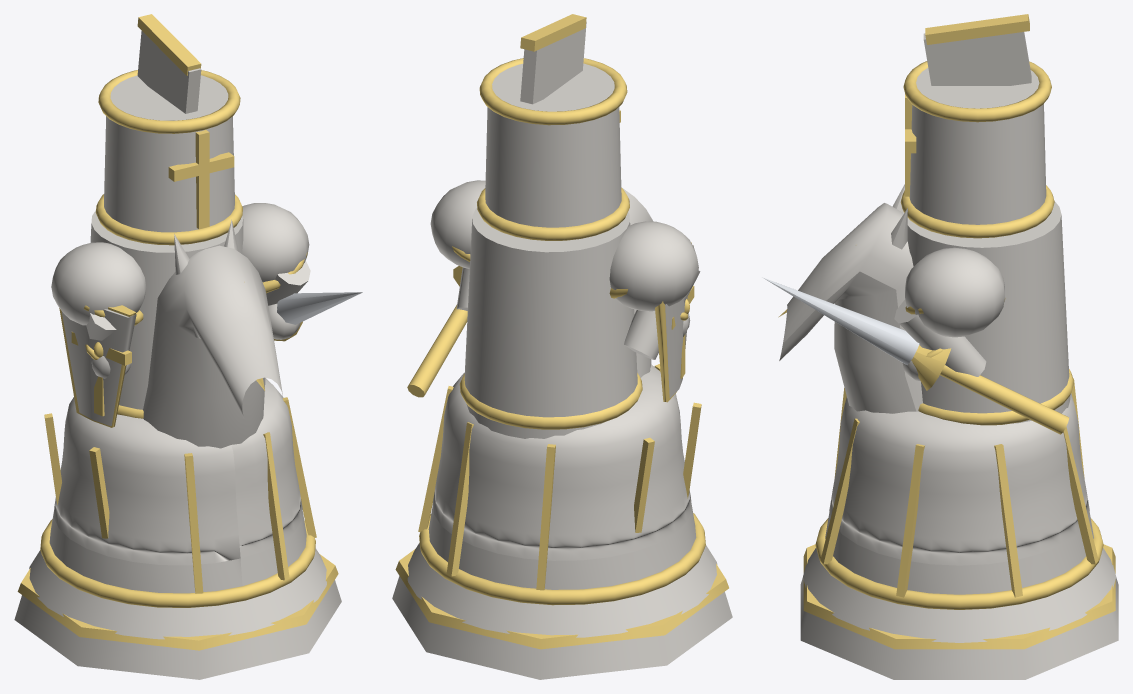
File: knight.glb
3 renders of one model, left to right at view 1: azimuth 30°, elevation 25°; view 2: azimuth 150°, elevation 25°; view 3: azimuth 270°, elevation 25°, orthographic. The views are drawn at different scales.
Visible parts, largest first — view 1: body, gold, steel; view 2: body, gold; view 3: body, gold, steel.
Boxes of the visible parts, x1,y1,x2,y2 form: body: [14, 31, 341, 679]; gold: [17, 14, 338, 650]; steel: [277, 292, 362, 324]; body: [392, 22, 732, 679]; gold: [395, 14, 728, 649]; body: [779, 32, 1118, 679]; gold: [778, 14, 1115, 649]; steel: [762, 277, 919, 365].
Bounding box in the file's own units: 0.7021 × 1.45 × 0.7886.
